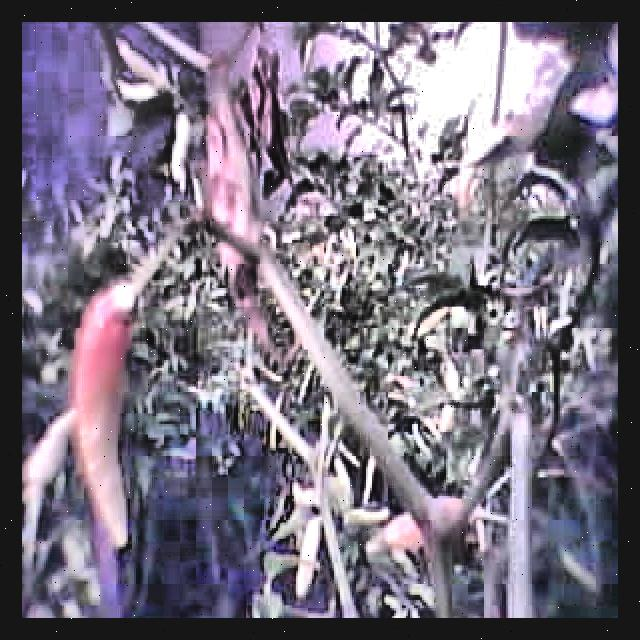Cabai: (66, 282, 180, 590)
